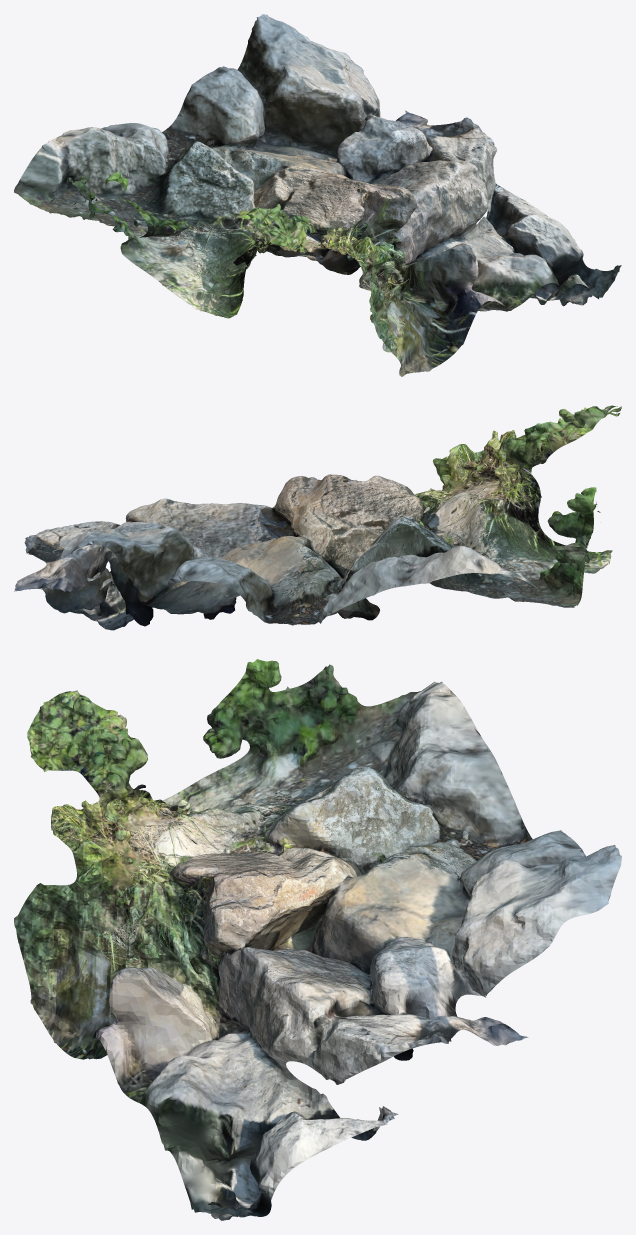
The model's file is caillou-2.glb.
3 renders of one model, top to bottom at view 1: azimuth 30°, elevation 25°; view 2: azimuth 150°, elevation 25°; view 3: azimuth 270°, elevation 25°, orthographic. The views are drawn at different scales.
Size of the model in its own units: 2.42 by 1.01 by 1.9.
1 material, 1 textured.
